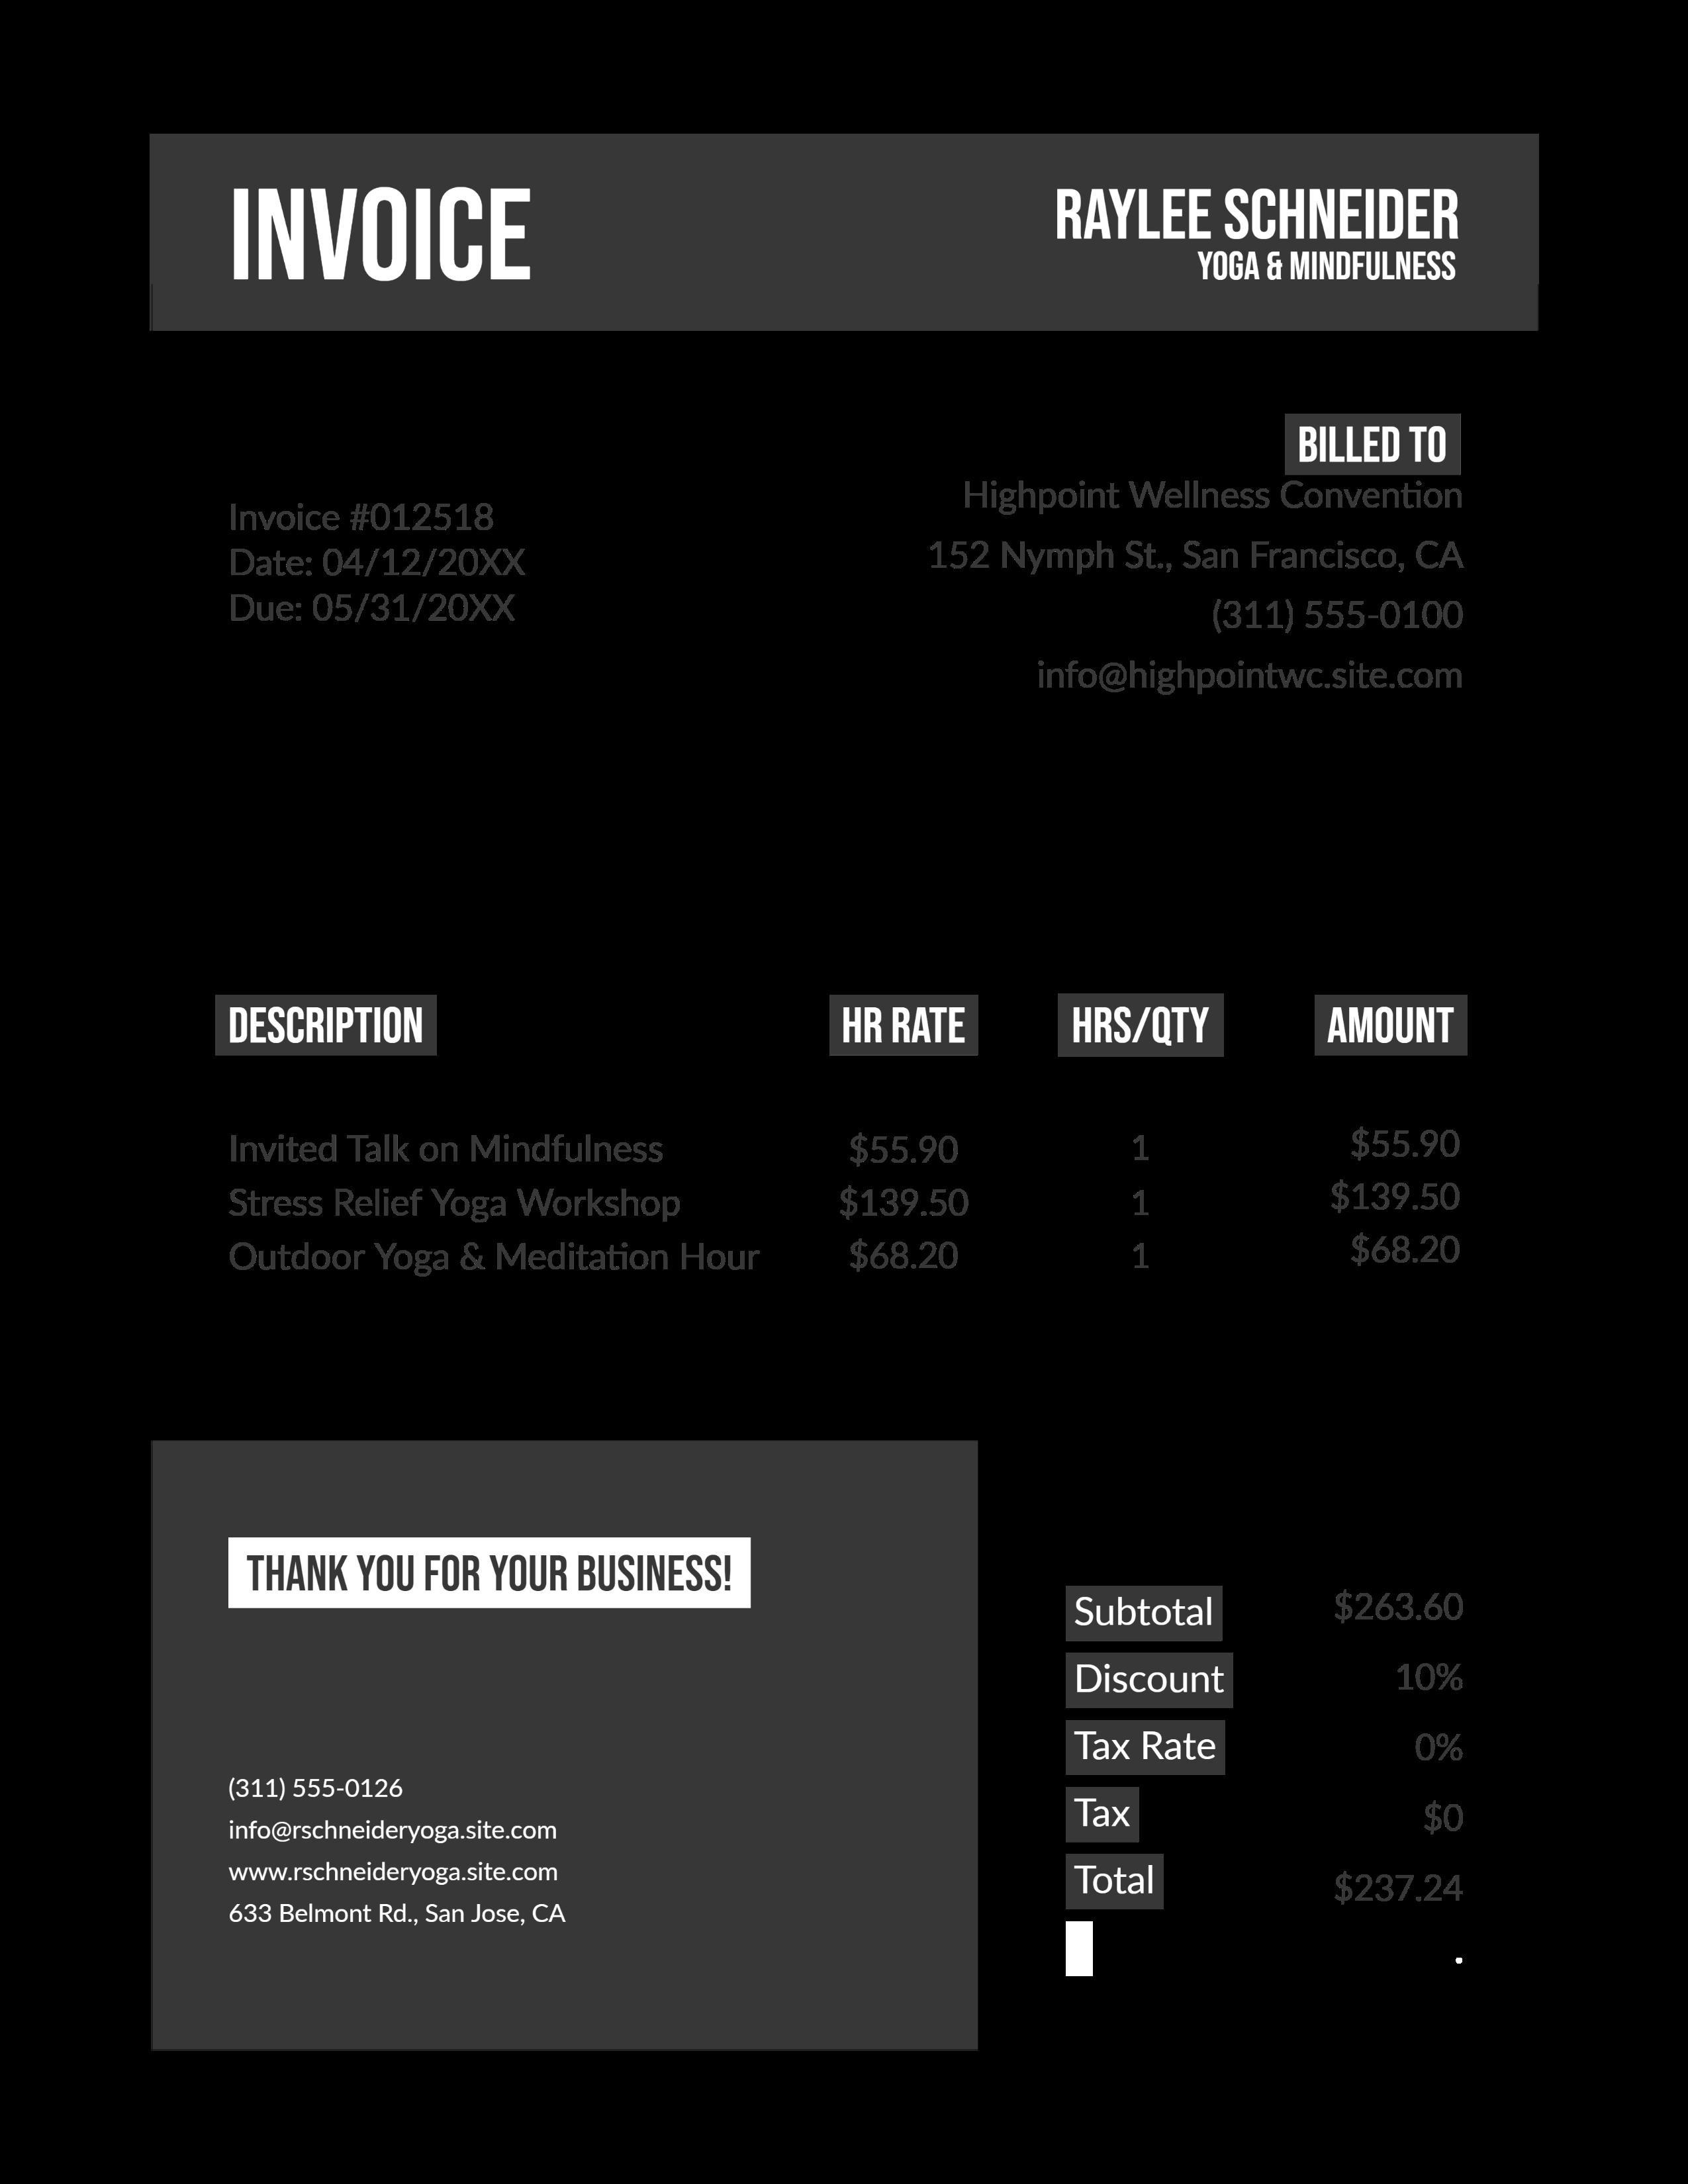ROI: (216, 986, 1477, 1285), (922, 404, 1482, 714), (1064, 1572, 1495, 1922), (223, 491, 541, 640), (1044, 183, 1473, 292)
